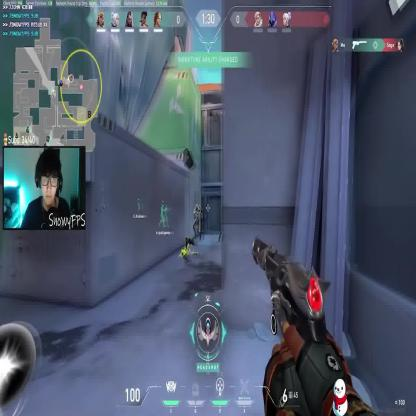enemy: (192, 202, 202, 240), (219, 200, 225, 240)
enemy_head: (196, 202, 198, 208)
